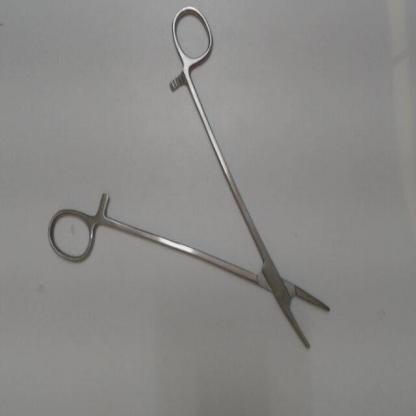8 Mayo Needle Holder: (38, 1, 350, 370)
